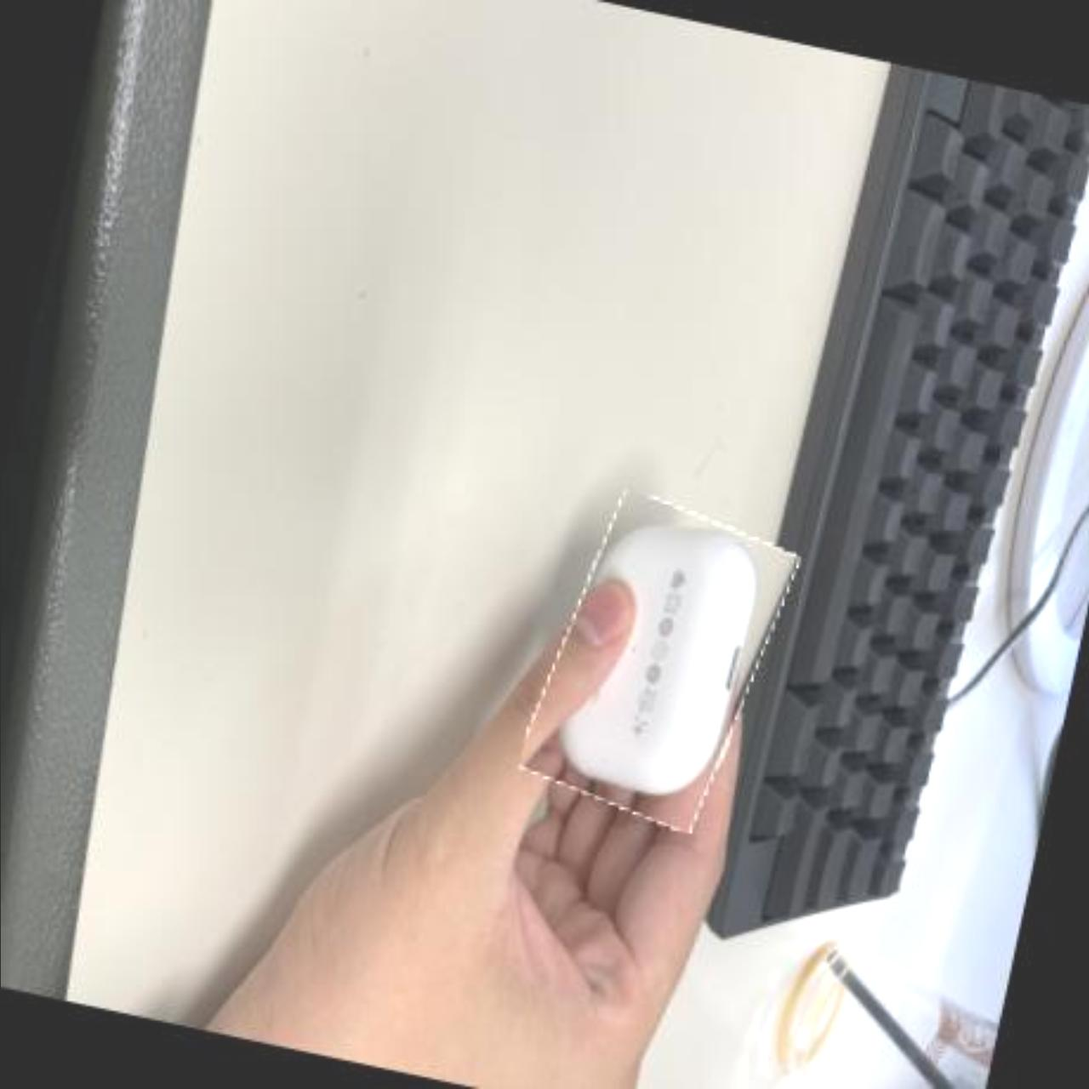AirPods: (525, 485, 794, 833)
